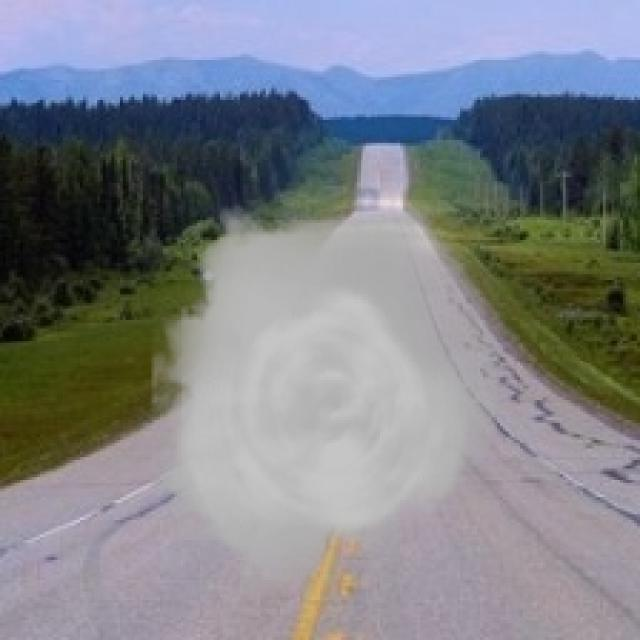smoke: (151, 186, 503, 603)
